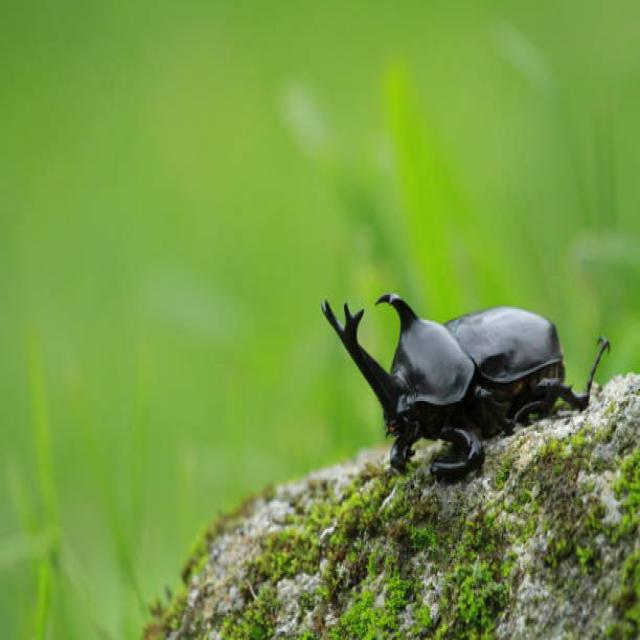Rhino-beetle: (325, 286, 593, 491)
